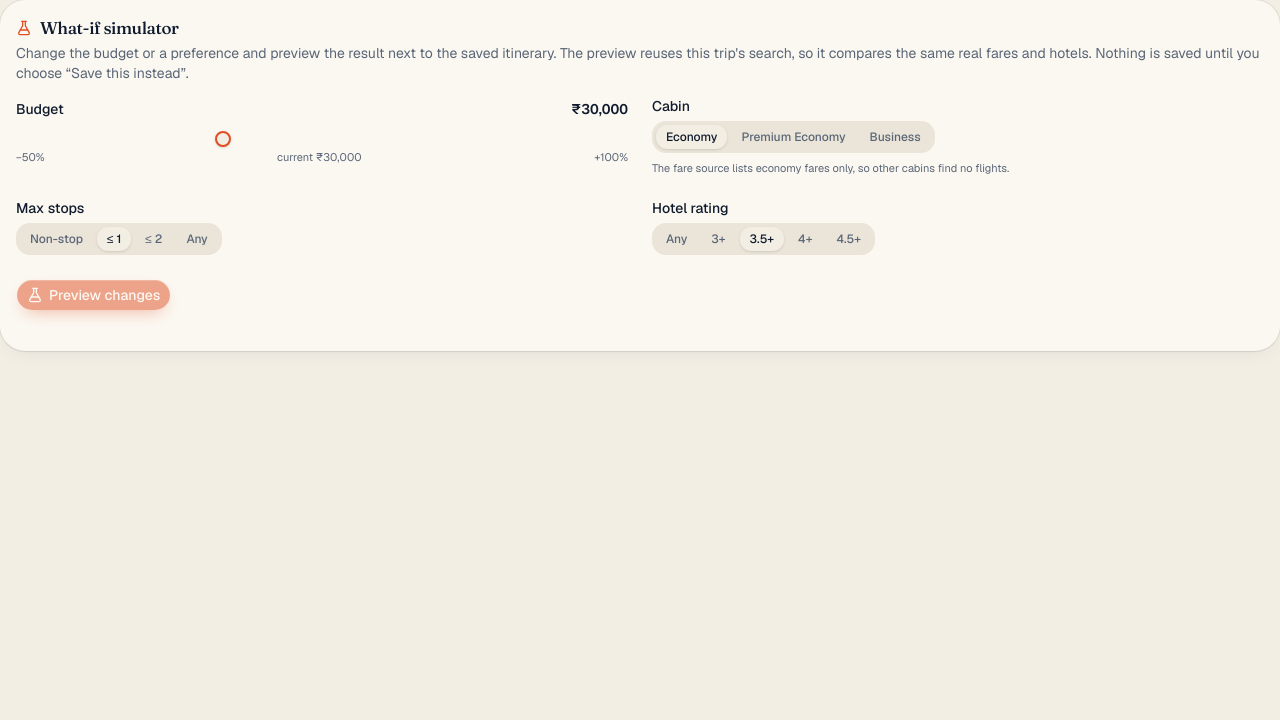
Test: ServerWhatIf › saves the previewed inputs only when asked
Click the radio button labelled "Non-stop". click: (56, 239)
box: [20,227,93,251]
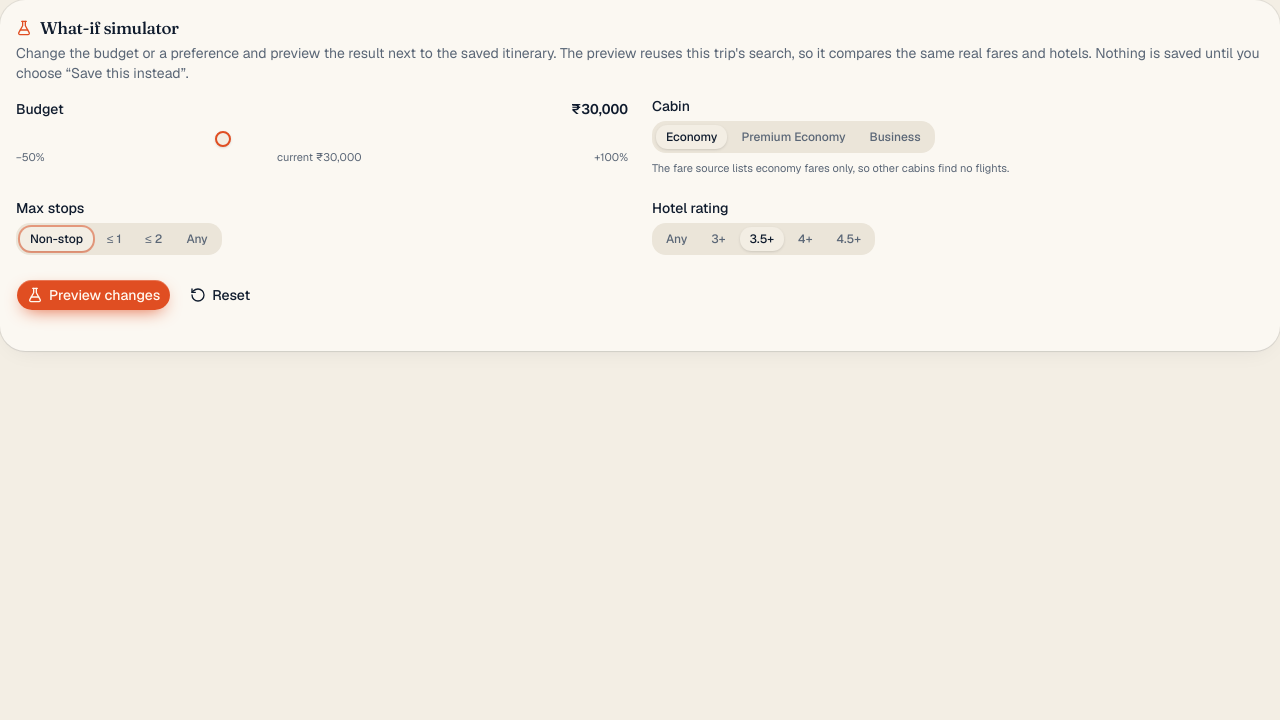
Click the button "Preview changes". click: (94, 295)
box: [16,279,171,311]
(page scrolled)
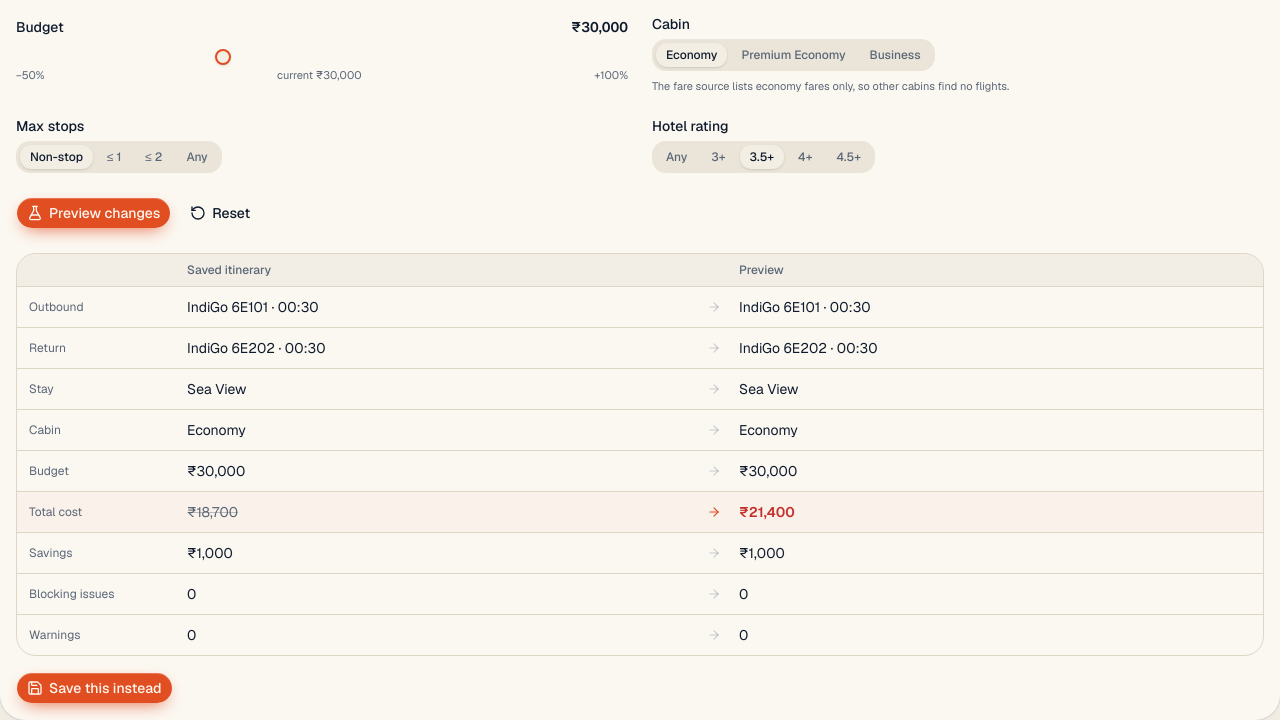
Click the button "Save this instead". click: (94, 688)
box: [16,672,173,704]
(page scrolled)
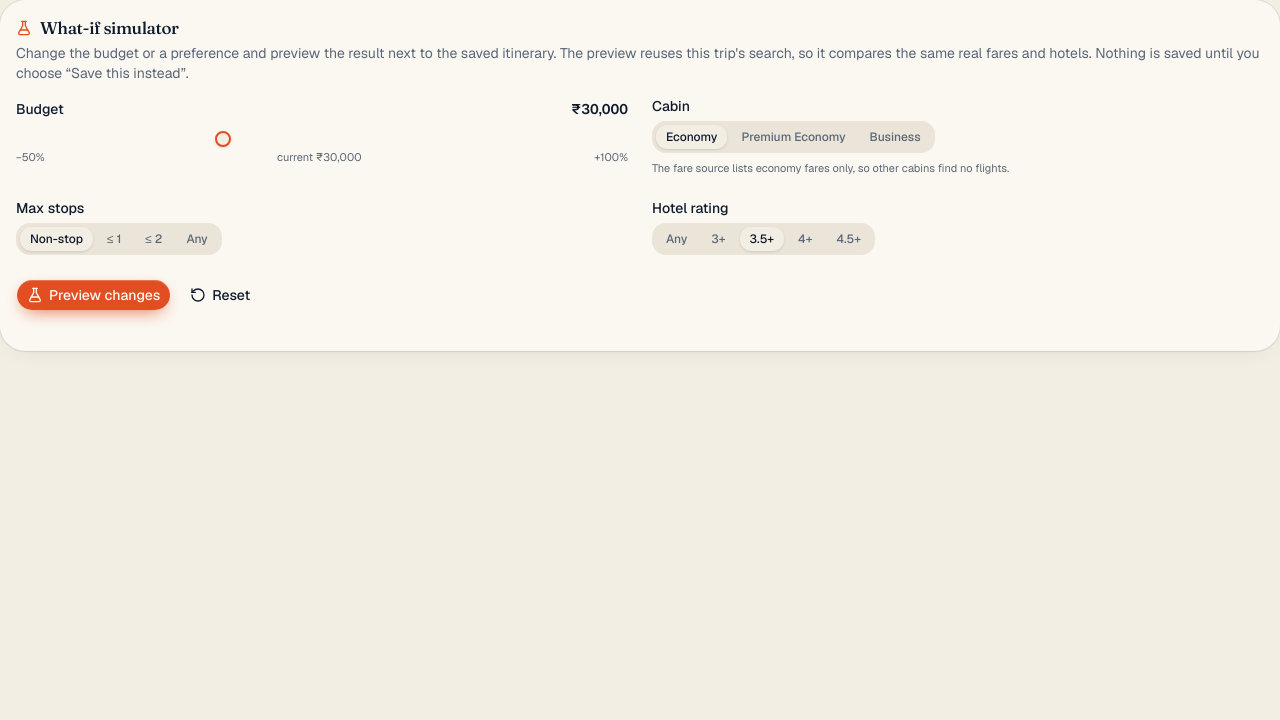
Now the table is gone
